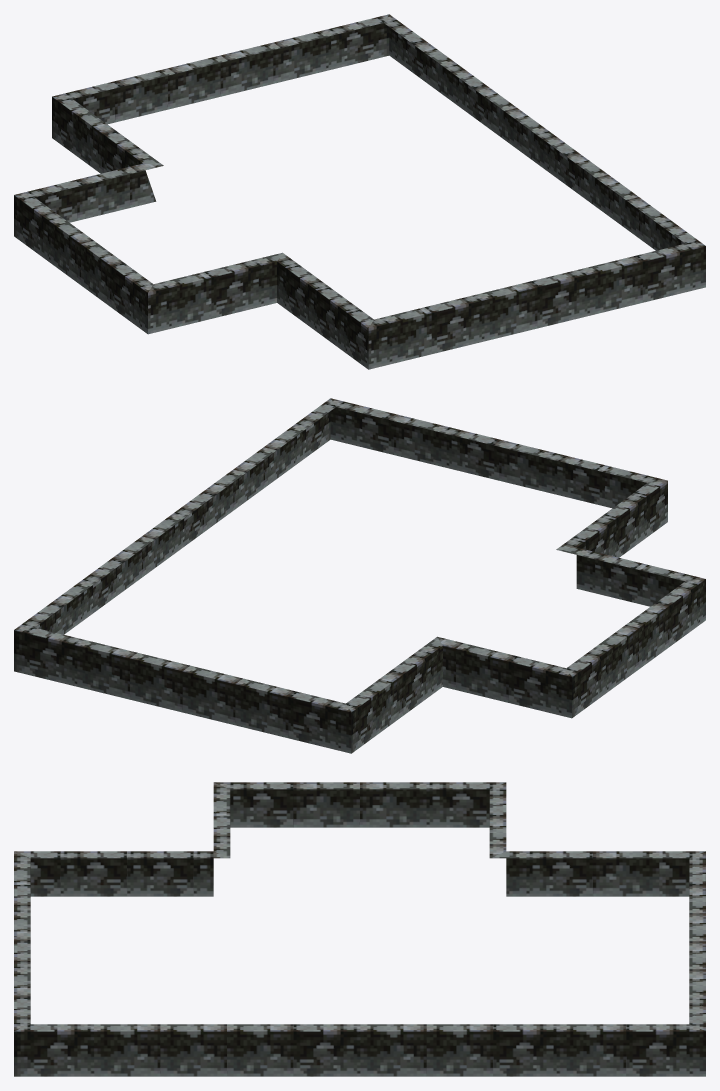
The model's file is EnvBdgMD_Snow_Mansion_A_Outdoor_B_Base.FBX.
3 views of the same model, one above another, from view 1: azimuth 30°, elevation 25°; view 2: azimuth 150°, elevation 25°; view 3: azimuth 270°, elevation 25° (orthographic). The views are drawn at different scales.
Visible parts, largest first — view 1: EnvBdgMD_Snow_Mansion_A_Outdoor_B_Base; view 2: EnvBdgMD_Snow_Mansion_A_Outdoor_B_Base; view 3: EnvBdgMD_Snow_Mansion_A_Outdoor_B_Base.
Part boxes in pixels (x1,y1,x2,y2): EnvBdgMD_Snow_Mansion_A_Outdoor_B_Base: [14, 14, 705, 369]; EnvBdgMD_Snow_Mansion_A_Outdoor_B_Base: [14, 398, 705, 753]; EnvBdgMD_Snow_Mansion_A_Outdoor_B_Base: [14, 782, 705, 1076].
Bounding box in the file's own units: 885 × 75 × 1040.
1 material, 1 textured.
